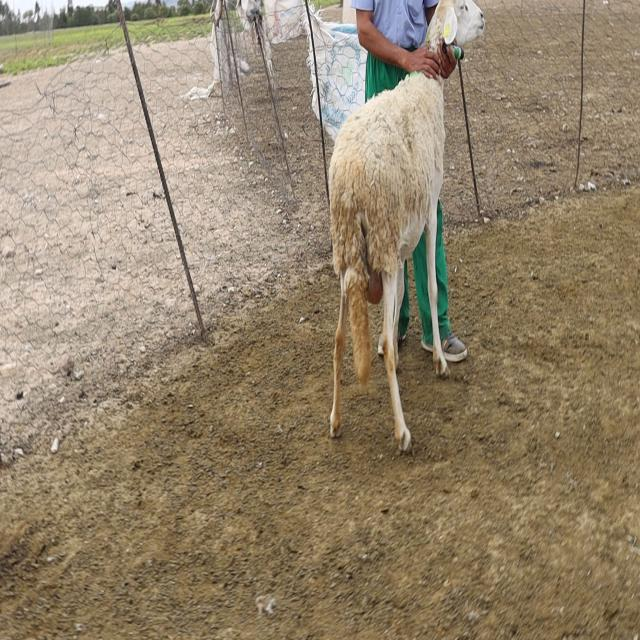Score_2: (329, 71, 465, 451)
